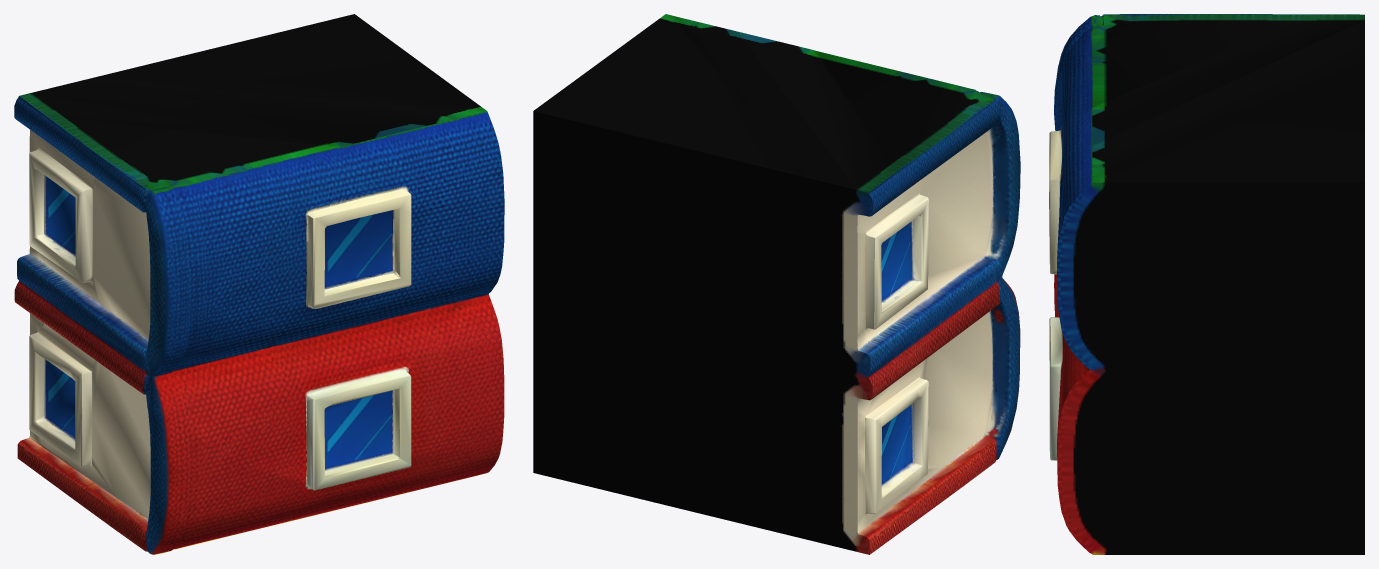
File: 5-upper-walls-front-left.fbx
3 views of the same model, side by side, from view 1: azimuth 30°, elevation 25°; view 2: azimuth 150°, elevation 25°; view 3: azimuth 270°, elevation 25° (orthographic). The views are drawn at different scales.
Parts seen in each view (by area): view 1: upper-walls-front-left; view 2: upper-walls-front-left; view 3: upper-walls-front-left.
Boxes of the visible parts, x1,y1,x2,y2 form: upper-walls-front-left: (14, 14, 504, 554); upper-walls-front-left: (533, 14, 1020, 554); upper-walls-front-left: (1049, 14, 1364, 554).
Size of the model in its own units: 5031 by 5098 by 3921.
1 material, 1 textured.
